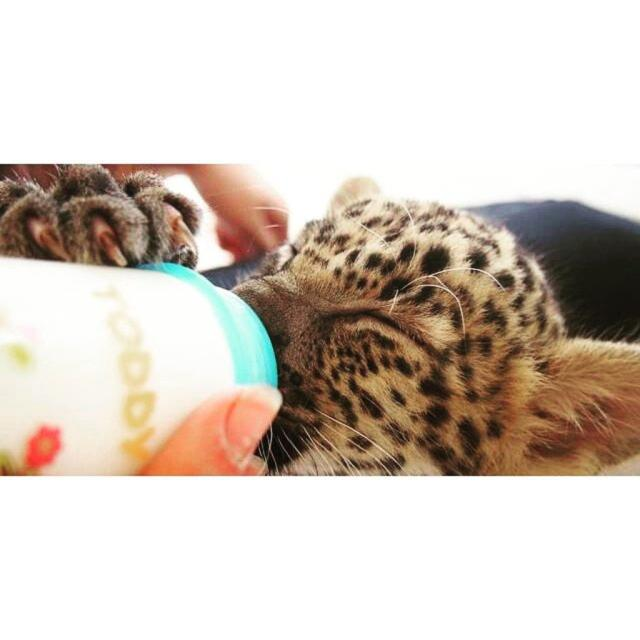Cheetah: (163, 170, 640, 472)
